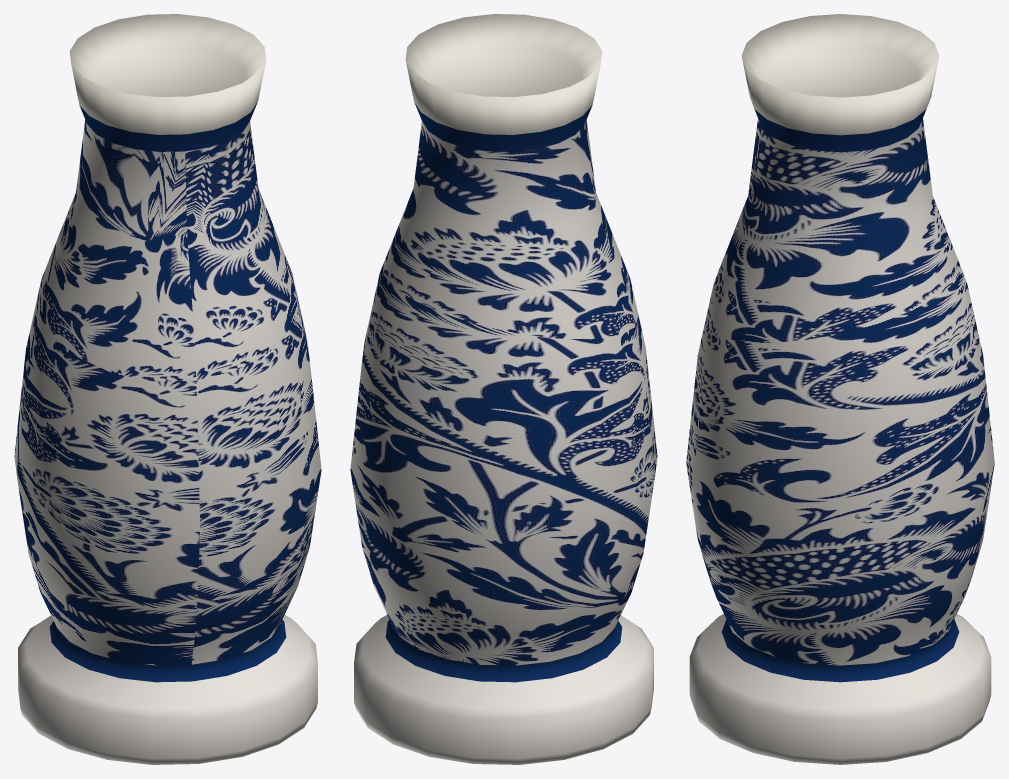
Rendered from Vase.glb.
3 views of the same model, side by side, from view 1: azimuth 30°, elevation 25°; view 2: azimuth 150°, elevation 25°; view 3: azimuth 270°, elevation 25° (orthographic).
Visible parts, largest first — view 1: Circle; view 2: Circle; view 3: Circle.
Part boxes in pixels (bbox=[...]): Circle: bbox=[14, 14, 321, 764]; Circle: bbox=[350, 14, 657, 764]; Circle: bbox=[686, 14, 994, 764].
Size of the model in its own units: 2.07 by 4.79 by 2.07.
Materials: 1 (1 with a texture image).
